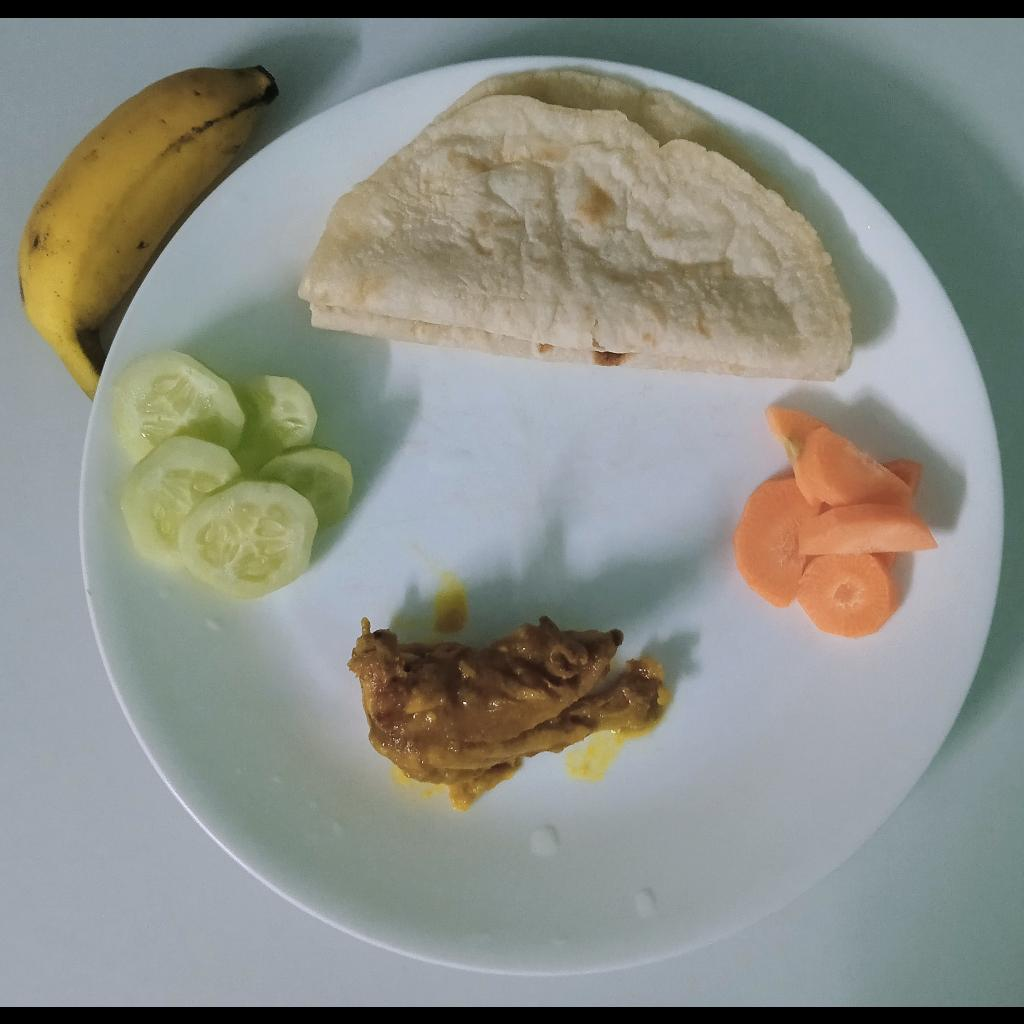banana: (18, 63, 278, 399)
carrot: (733, 406, 943, 641)
chicken: (344, 606, 671, 818)
cucumber: (108, 345, 351, 608)
ruti: (295, 64, 852, 377)
